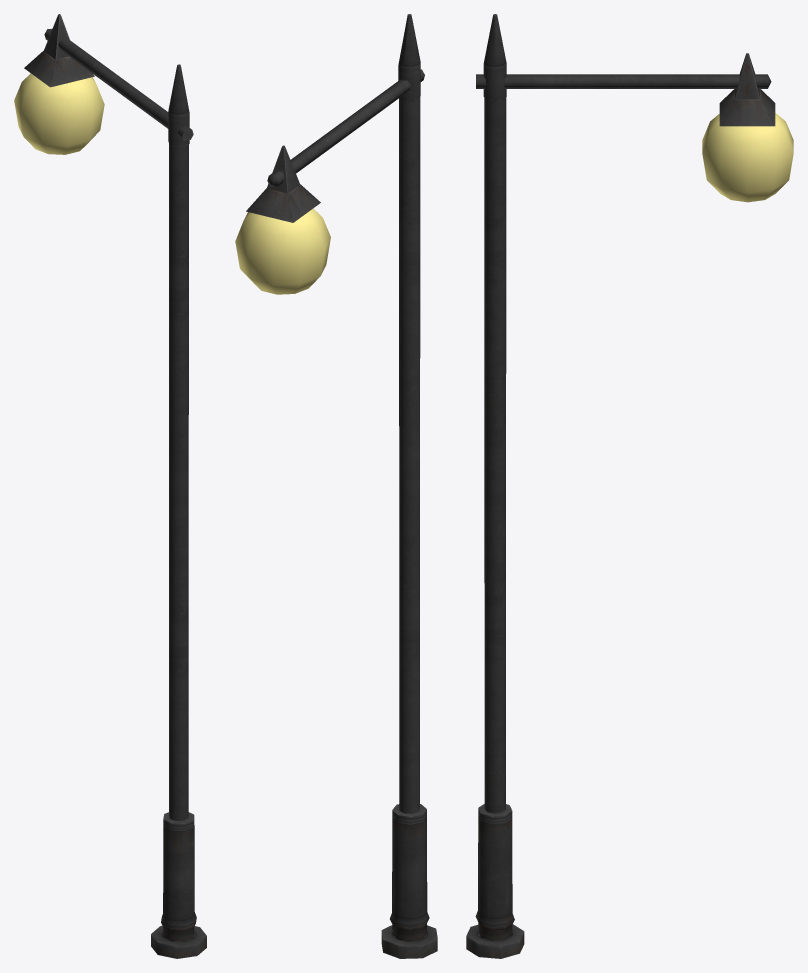
The model's file is Overhanging_Sidewalk_-_Light_on.glb.
3 renders of one model, left to right at view 1: azimuth 30°, elevation 25°; view 2: azimuth 150°, elevation 25°; view 3: azimuth 270°, elevation 25°, orthographic. The views are drawn at different scales.
Visible parts, largest first — view 1: Overhanging_Sidewalk_Light_On__LOD3; view 2: Overhanging_Sidewalk_Light_On__LOD3; view 3: Overhanging_Sidewalk_Light_On__LOD3.
Part boxes in pixels (x1,y1,x2,y2): Overhanging_Sidewalk_Light_On__LOD3: [14, 14, 206, 958]; Overhanging_Sidewalk_Light_On__LOD3: [235, 14, 437, 958]; Overhanging_Sidewalk_Light_On__LOD3: [466, 14, 793, 958].
Bounding box in the file's own units: 0.3607 × 3.85 × 1.23.
Materials: 1 (1 with a texture image).
